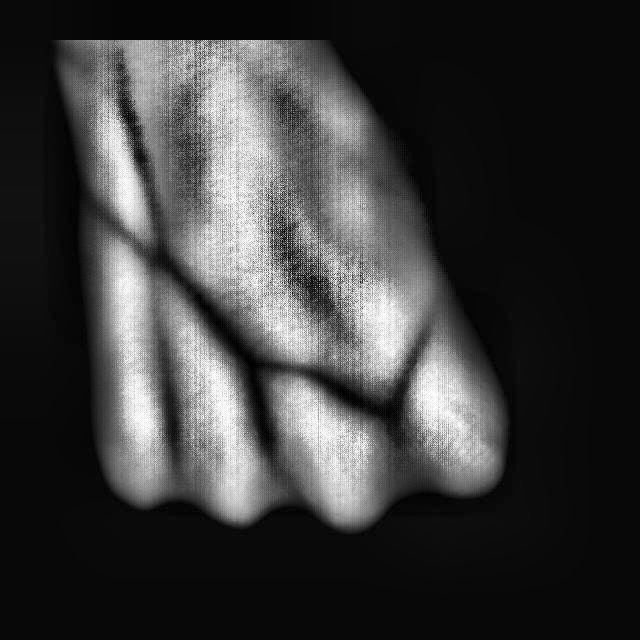Vein: (128, 219, 258, 372)
